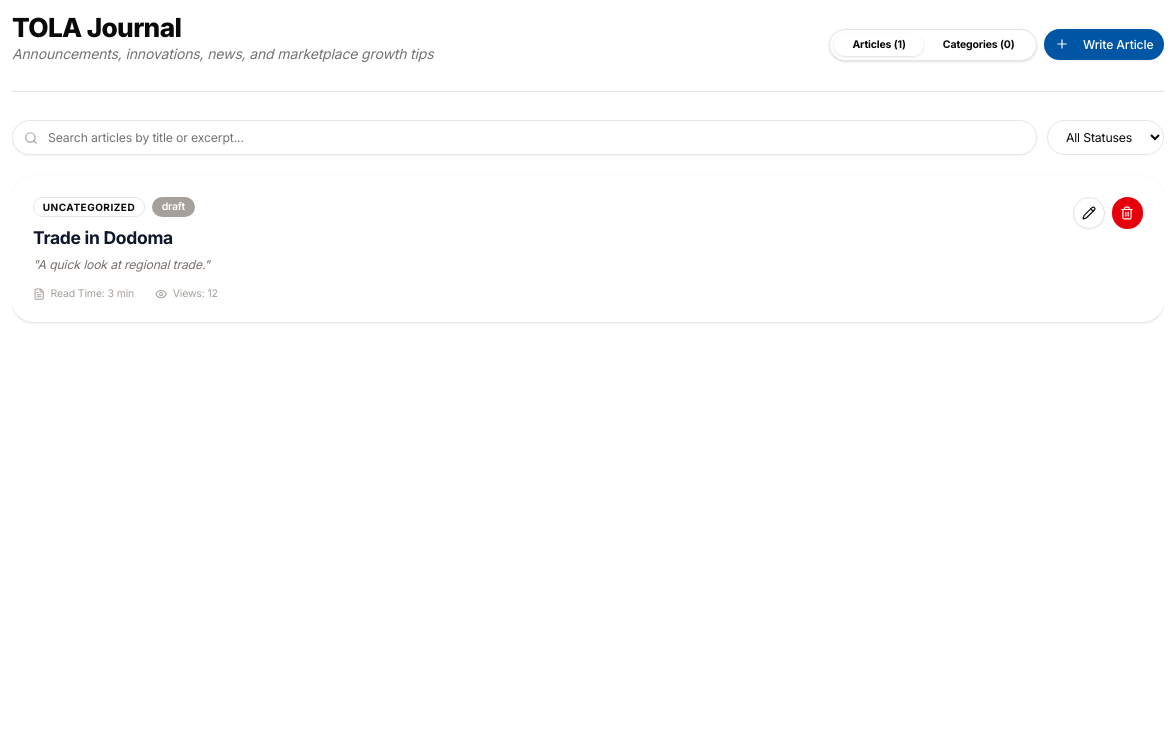
BlogManagementTab › opens the editor pre-filled when editing an existing article
Click the heading "Trade in Dodoma". click: click(103, 238)
box: [33, 227, 173, 248]
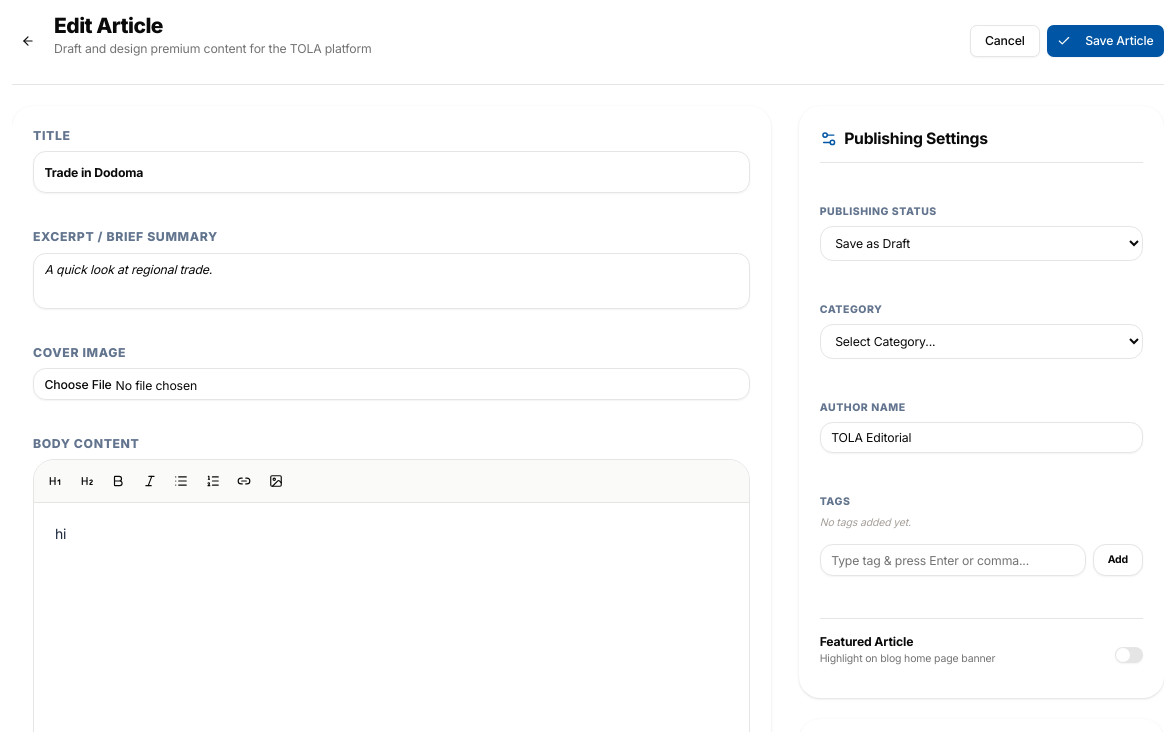
Now the heading "Edit Article" is shown, box [54, 13, 163, 38]
Now the field showing "Trade in Dodoma" is shown, box [33, 151, 750, 193]
